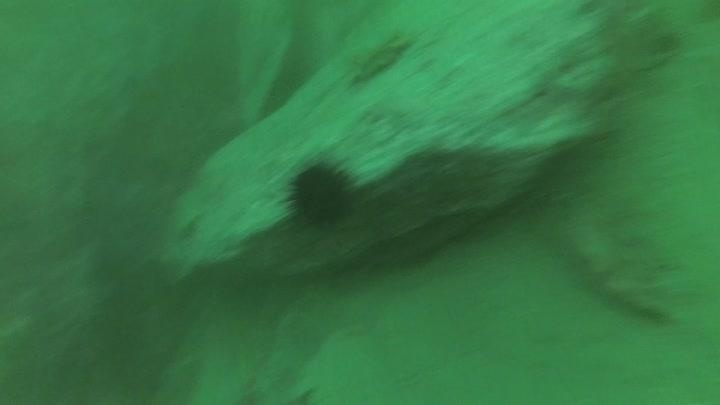echinus: (281, 154, 362, 232)
